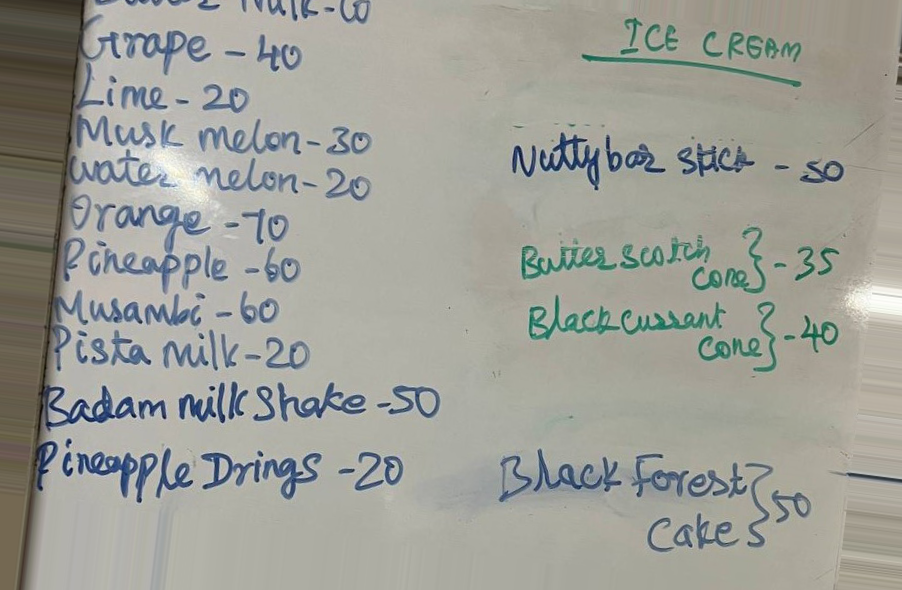badam milkshake - 50: (36, 378, 447, 427)
black current cone - 40: (508, 298, 841, 375)
black forest cake - 50: (497, 445, 815, 558)
butterscotch cone - 35: (519, 224, 840, 294)
grape - 40: (77, 13, 311, 73)
lime - 20: (73, 62, 254, 117)
musambi - 60: (52, 283, 284, 332)
musk melon - 30: (69, 110, 373, 156)
nutty bar - 30: (507, 127, 848, 192)
orange - 70: (60, 192, 300, 242)
pineapple - 60: (57, 235, 305, 287)
pineapple drink - 20: (31, 431, 405, 503)
pista milk - 20: (45, 325, 315, 374)
water melon - 20: (68, 148, 374, 204)
